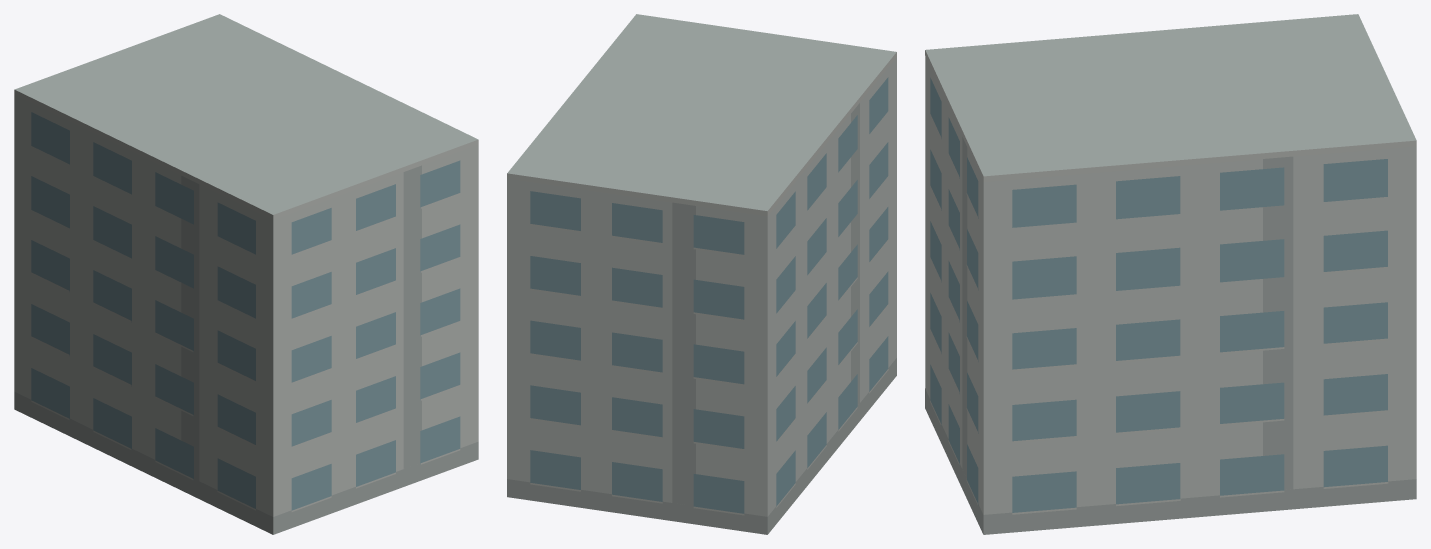
Rendered from residential-de08f134-f337-4c28-8656-505f66934365.glb.
The picture shows the model from 3 angles, left to right: view 1: azimuth 30°, elevation 25°; view 2: azimuth 150°, elevation 25°; view 3: azimuth 270°, elevation 25°; orthographic projection. The views are drawn at different scales.
Visible parts, largest first — view 1: residential-de08f134-f337-4c28-8656-505f66934365.tmp; view 2: residential-de08f134-f337-4c28-8656-505f66934365.tmp; view 3: residential-de08f134-f337-4c28-8656-505f66934365.tmp.
Part boxes in pixels (box(x1,y1,x2,y2)): residential-de08f134-f337-4c28-8656-505f66934365.tmp: box(14, 14, 478, 534); residential-de08f134-f337-4c28-8656-505f66934365.tmp: box(507, 14, 896, 534); residential-de08f134-f337-4c28-8656-505f66934365.tmp: box(925, 14, 1416, 534).
Size of the model in its own units: 14.82 by 15.25 by 18.96.
